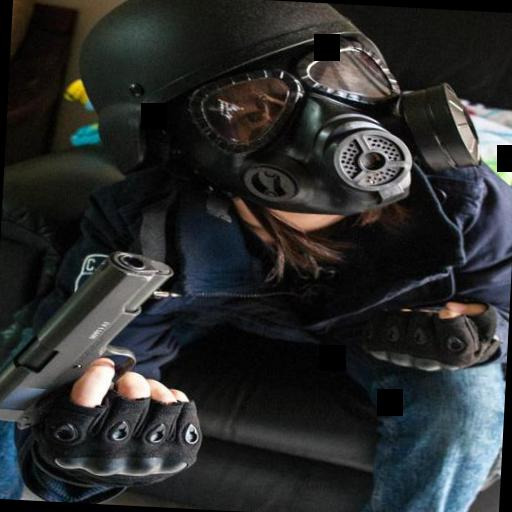Handgun: (0, 237, 177, 442)
